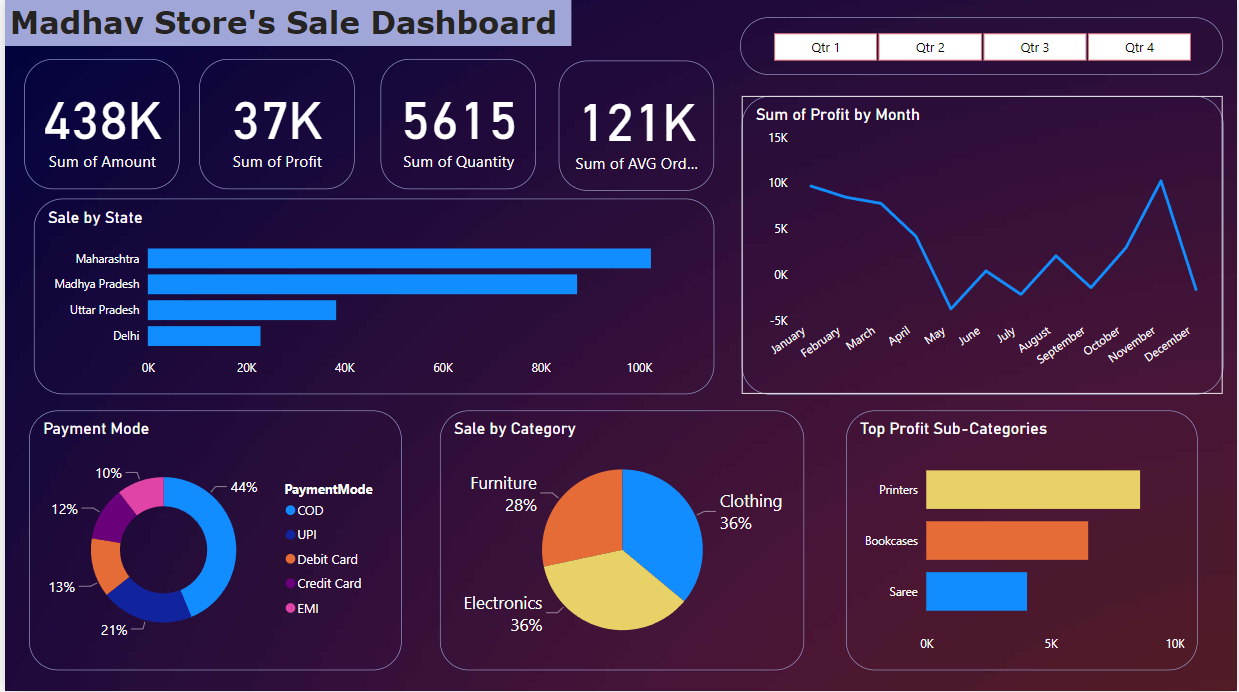

This screenshot's page, from the dashboard's own definition file:
{"tool":"powerbi","page":{"name":"Page 1","canvas":[1280,720],"ordinal":0},"visuals":[{"type":"textbox","box":[0,0,588.3,50],"z":0},{"type":"lineChart","fields":{"Y":["Sum(Details.Profit)"],"Category":["Orders.Order Date.Variation.Date Hierarchy.Month"]},"box":[765,101.7,500,310],"z":1},{"type":"pieChart","title":"Sale by Category","fields":{"Category":["Details.Category"],"Y":["Sum(Details.Profit)"]},"box":[451.7,428.3,378.3,270],"z":2},{"type":"barChart","title":"Top Profit Sub-Categories","fields":{"Category":["Details.Sub-Category"],"Y":["Sum(Details.Profit)"]},"box":[873.3,428.3,365,270],"z":3},{"type":"donutChart","title":"Payment Mode","fields":{"Y":["Sum(Details.Quantity)"],"Category":["Details.PaymentMode"]},"box":[25,428.3,386.7,270],"z":4},{"type":"card","fields":{"Values":["Sum(Details.Profit)"]},"box":[201.7,63.3,161.7,135],"z":5},{"type":"card","fields":{"Values":["Sum(Details.Quantity)"]},"box":[390,63.3,161.7,135],"z":6},{"type":"card","fields":{"Values":["Sum(Details.Amount)"]},"box":[20,63.3,161.7,135],"z":7},{"type":"card","fields":{"Values":["Sum(Details.AVG Order Value)"]},"box":[575,65,161.7,135],"z":8},{"type":"barChart","title":"Sale by State","fields":{"Category":["Orders.State"],"Y":["Sum(Details.Amount)"]},"box":[30,208.3,706.7,203.3],"z":9},{"type":"slicer","fields":{"Values":["Orders.Order Date.Variation.Date Hierarchy.Quarter"]},"box":[763.3,20,501.7,60],"z":10}]}

Visuals, with their boxes in screenshot pixels (x1, y1, x2, y2), scaled from the page's 1280x720 canvas onto the 1239x692 screenshot:
textbox: <box>0,0,569,48</box>
lineChart - Sum(Details.Profit) x Orders.Order Date.Variation.Date Hierarchy.Month: <box>740,98,1224,396</box>
"Sale by Category" pieChart: <box>437,412,803,671</box>
"Top Profit Sub-Categories" barChart: <box>845,412,1199,671</box>
"Payment Mode" donutChart: <box>24,412,399,671</box>
card - Sum(Details.Profit): <box>195,61,352,191</box>
card - Sum(Details.Quantity): <box>378,61,534,191</box>
card - Sum(Details.Amount): <box>19,61,176,191</box>
card - Sum(Details.AVG Order Value): <box>557,62,713,192</box>
"Sale by State" barChart: <box>29,200,713,396</box>
slicer - Orders.Order Date.Variation.Date Hierarchy.Quarter: <box>739,19,1224,77</box>
